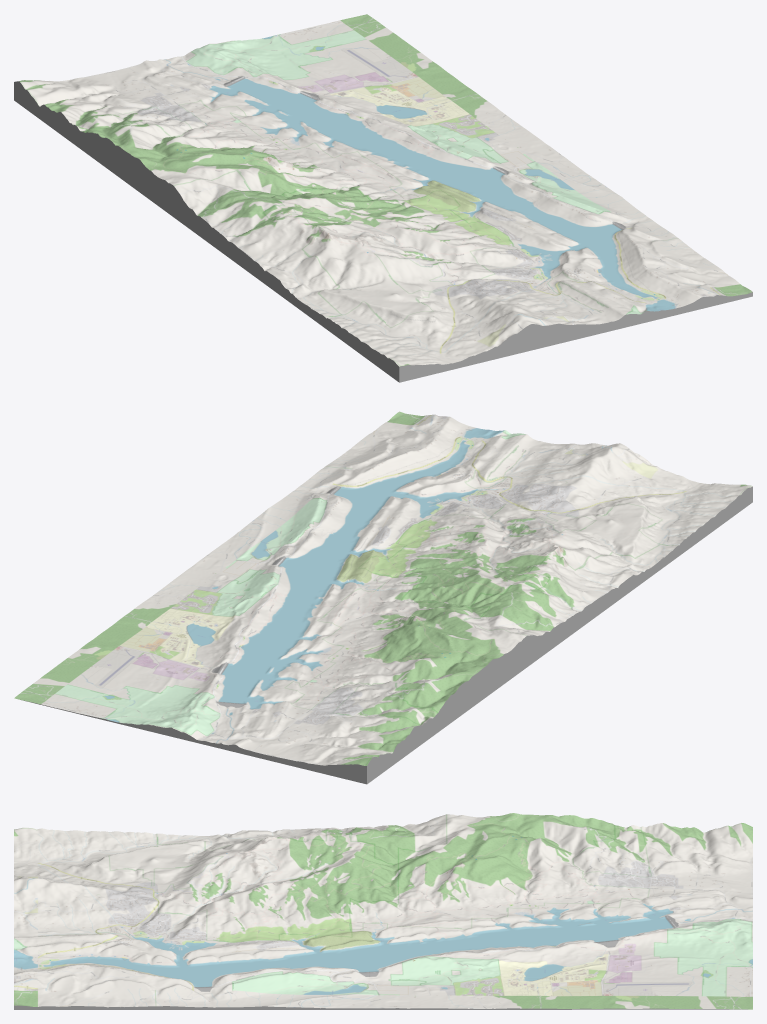
Rendered from htmap.obj.
The picture shows the model from 3 angles, top to bottom: view 1: azimuth 30°, elevation 25°; view 2: azimuth 150°, elevation 25°; view 3: azimuth 270°, elevation 25°; orthographic projection. The views are drawn at different scales.
Parts seen in each view (by area): view 1: Terrain_overlay.002, Terrain_; view 2: Terrain_overlay.002, Terrain_; view 3: Terrain_overlay.002, Terrain_.
Boxes of the visible parts, x1,y1,x2,y2 form: Terrain_overlay.002: (19, 14, 752, 366); Terrain_: (14, 81, 752, 382); Terrain_overlay.002: (14, 411, 752, 765); Terrain_: (21, 486, 752, 784); Terrain_overlay.002: (14, 813, 752, 1009); Terrain_: (14, 1005, 747, 1009).
Bounding box in the file's own units: 6466 × 667 × 12215.
